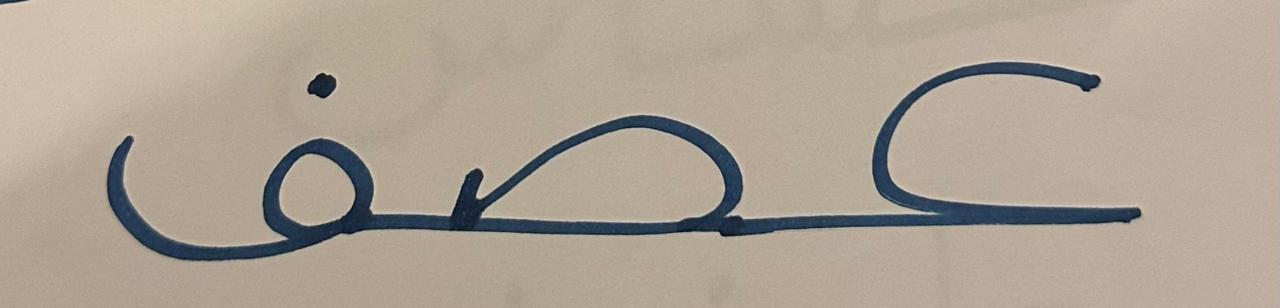ain: (791, 9, 1174, 288)
feh: (27, 19, 402, 289)
seen: (406, 30, 787, 289)
